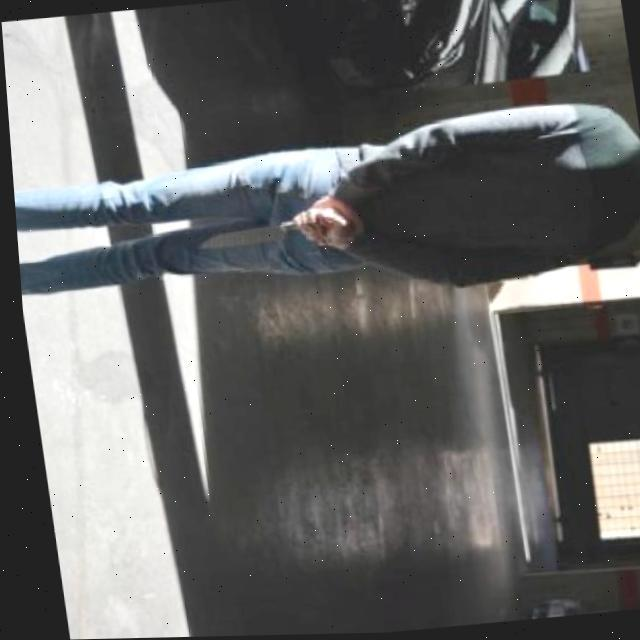knife: (188, 220, 294, 253)
